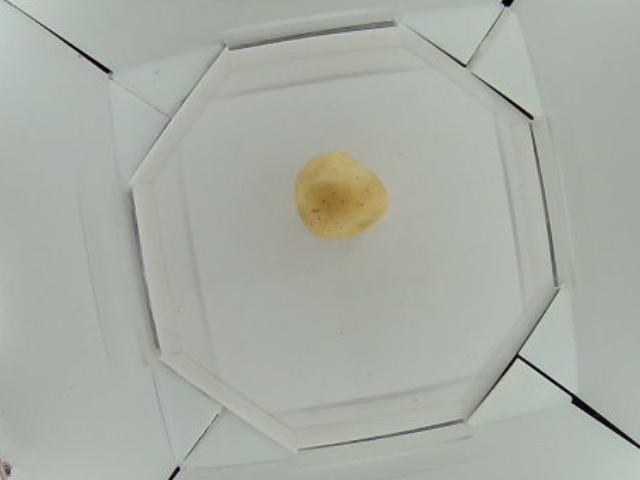Potato: (297, 149, 388, 248)
